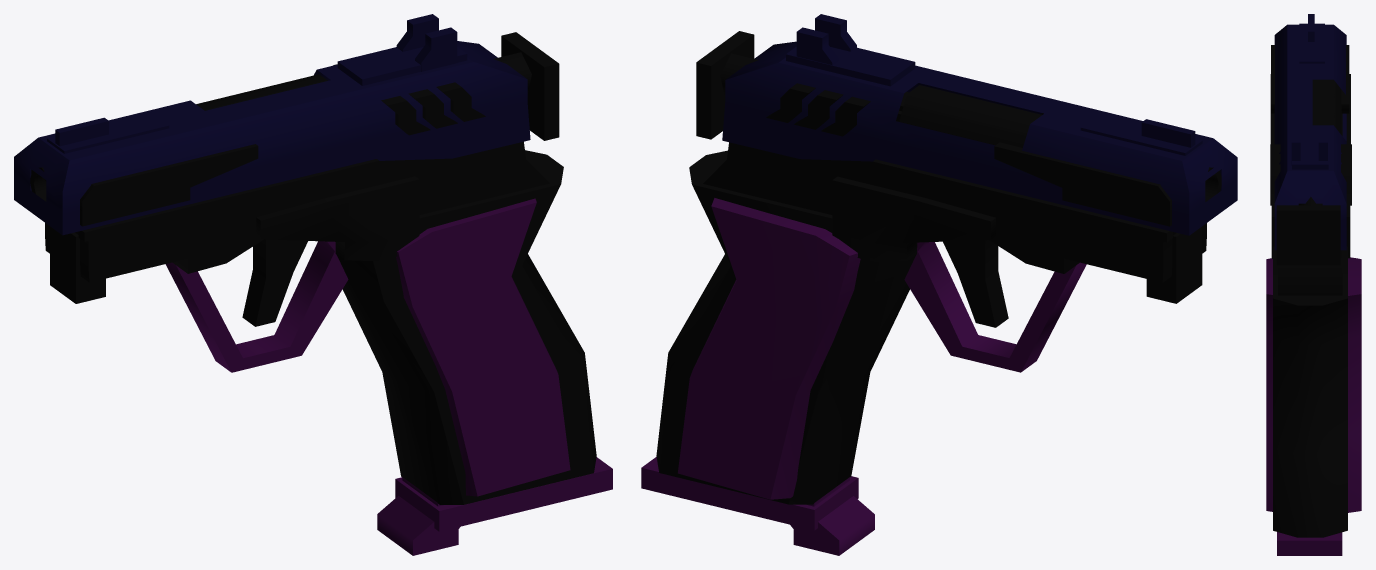
File: hangun.FBX
3 renders of one model, left to right at view 1: azimuth 30°, elevation 25°; view 2: azimuth 150°, elevation 25°; view 3: azimuth 270°, elevation 25°, orthographic. The views are drawn at different scales.
Visible parts, largest first — view 1: Box010, Box024, Box005, Box002, Box004, Tube001, Box023, Box017, Box006, Box019, Box025, Box013 (+2 smaller); view 2: Box010, Box024, Box005, Box002, Box006, Box004, Tube001, Box023, Box018, Box020, Box025, Box014 (+2 smaller); view 3: Box005, Box010, Box006, Box024, Box002, Box023, Box004, Box018, Box015, Box013, Box017, Box020 (+1 smaller).
Part boxes in pixels (x1,y1,x2,y2): Box010: (14, 14, 530, 235); Box024: (396, 198, 570, 496); Box005: (337, 150, 596, 504); Box002: (45, 141, 549, 303); Box004: (256, 176, 419, 261); Tube001: (165, 241, 348, 372); Box023: (377, 457, 612, 555); Box017: (80, 144, 258, 226); Box006: (196, 32, 559, 140); Box019: (78, 159, 379, 241); Box025: (242, 239, 307, 326); Box013: (436, 82, 485, 121); Box010: (722, 14, 1237, 235); Box024: (678, 198, 860, 499); Box005: (656, 150, 917, 504); Box002: (703, 142, 1206, 303); Box006: (696, 31, 1041, 147); Box004: (832, 176, 995, 261); Tube001: (904, 242, 1086, 372); Box023: (641, 457, 874, 555); Box018: (994, 142, 1171, 226); Box020: (872, 159, 1172, 242); Box025: (943, 240, 1008, 327); Box014: (794, 90, 843, 129); Box005: (1273, 246, 1347, 537); Box010: (1274, 14, 1346, 250); Box006: (1276, 79, 1341, 265); Box024: (1266, 257, 1361, 512); Box002: (1278, 113, 1342, 295); Box023: (1277, 532, 1342, 555); Box004: (1271, 205, 1350, 258); Box018: (1341, 45, 1349, 113); Box015: (1341, 164, 1351, 205); Box013: (1270, 164, 1280, 205); Box017: (1271, 45, 1274, 113); Box020: (1346, 74, 1350, 144).
Size of the model in its own units: 110 by 96.78 by 22.12.
